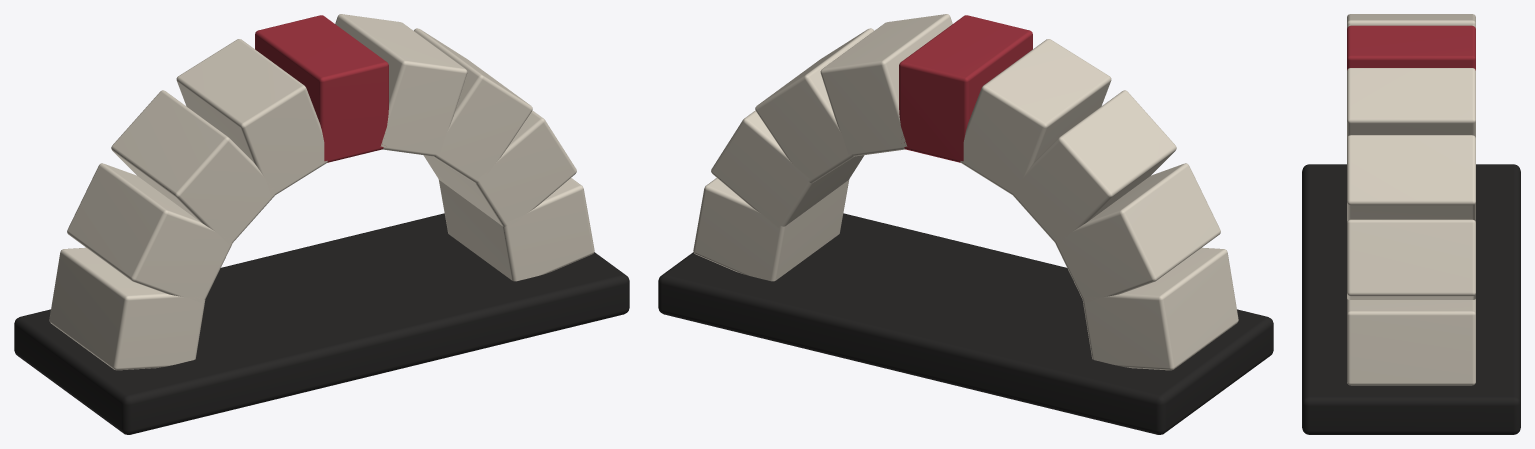
Rendered from VSV-011.glb.
3 views of the same model, side by side, from view 1: azimuth 30°, elevation 25°; view 2: azimuth 150°, elevation 25°; view 3: azimuth 270°, elevation 25° (orthographic). The views are drawn at different scales.
Visible parts, largest first — view 1: VSV-011_keystone__base, VSV-011_keystone__voussoir.007, VSV-011_keystone__voussoir.005, VSV-011_keystone__voussoir.006, VSV-011_keystone__voussoir.008, VSV-011_keystone__voussoir.004, VSV-011_keystone__voussoir.003, VSV-011_keystone__voussoir, VSV-011_keystone__voussoir.001, VSV-011_keystone__voussoir.002; view 2: VSV-011_keystone__base, VSV-011_keystone__voussoir.007, VSV-011_keystone__voussoir.005, VSV-011_keystone__voussoir.006, VSV-011_keystone__voussoir.008, VSV-011_keystone__voussoir.004, VSV-011_keystone__voussoir.003, VSV-011_keystone__voussoir, VSV-011_keystone__voussoir.001, VSV-011_keystone__voussoir.002; view 3: VSV-011_keystone__base, VSV-011_keystone__voussoir, VSV-011_keystone__voussoir.002, VSV-011_keystone__voussoir.001, VSV-011_keystone__voussoir.003, VSV-011_keystone__voussoir.004, VSV-011_keystone__voussoir.005.
Boxes of the visible parts, left/top/right/bottom form: VSV-011_keystone__base: left=14, top=213, right=629, bottom=434; VSV-011_keystone__voussoir.007: left=67, top=163, right=232, bottom=302; VSV-011_keystone__voussoir.005: left=176, top=39, right=327, bottom=195; VSV-011_keystone__voussoir.006: left=111, top=90, right=276, bottom=244; VSV-011_keystone__voussoir.008: left=49, top=247, right=205, bottom=370; VSV-011_keystone__voussoir.004: left=255, top=15, right=388, bottom=162; VSV-011_keystone__voussoir.003: left=335, top=14, right=467, bottom=156; VSV-011_keystone__voussoir: left=438, top=178, right=594, bottom=281; VSV-011_keystone__voussoir.001: left=423, top=110, right=576, bottom=226; VSV-011_keystone__voussoir.002: left=414, top=28, right=532, bottom=183; VSV-011_keystone__base: left=658, top=213, right=1273, bottom=434; VSV-011_keystone__voussoir.007: left=1055, top=163, right=1220, bottom=302; VSV-011_keystone__voussoir.005: left=960, top=39, right=1111, bottom=195; VSV-011_keystone__voussoir.006: left=1011, top=90, right=1176, bottom=244; VSV-011_keystone__voussoir.008: left=1082, top=247, right=1238, bottom=370; VSV-011_keystone__voussoir.004: left=899, top=15, right=1032, bottom=162; VSV-011_keystone__voussoir.003: left=820, top=14, right=952, bottom=156; VSV-011_keystone__voussoir: left=693, top=178, right=849, bottom=281; VSV-011_keystone__voussoir.001: left=711, top=110, right=864, bottom=227; VSV-011_keystone__voussoir.002: left=755, top=28, right=873, bottom=183; VSV-011_keystone__base: left=1302, top=164, right=1520, bottom=434; VSV-011_keystone__voussoir: left=1347, top=299, right=1475, bottom=385; VSV-011_keystone__voussoir.002: left=1347, top=135, right=1475, bottom=221; VSV-011_keystone__voussoir.001: left=1347, top=219, right=1475, bottom=299; VSV-011_keystone__voussoir.003: left=1347, top=68, right=1475, bottom=137; VSV-011_keystone__voussoir.004: left=1347, top=25, right=1475, bottom=70; VSV-011_keystone__voussoir.005: left=1347, top=14, right=1475, bottom=28.
Size of the model in its own units: 2.7 by 1.47 by 1.05.
